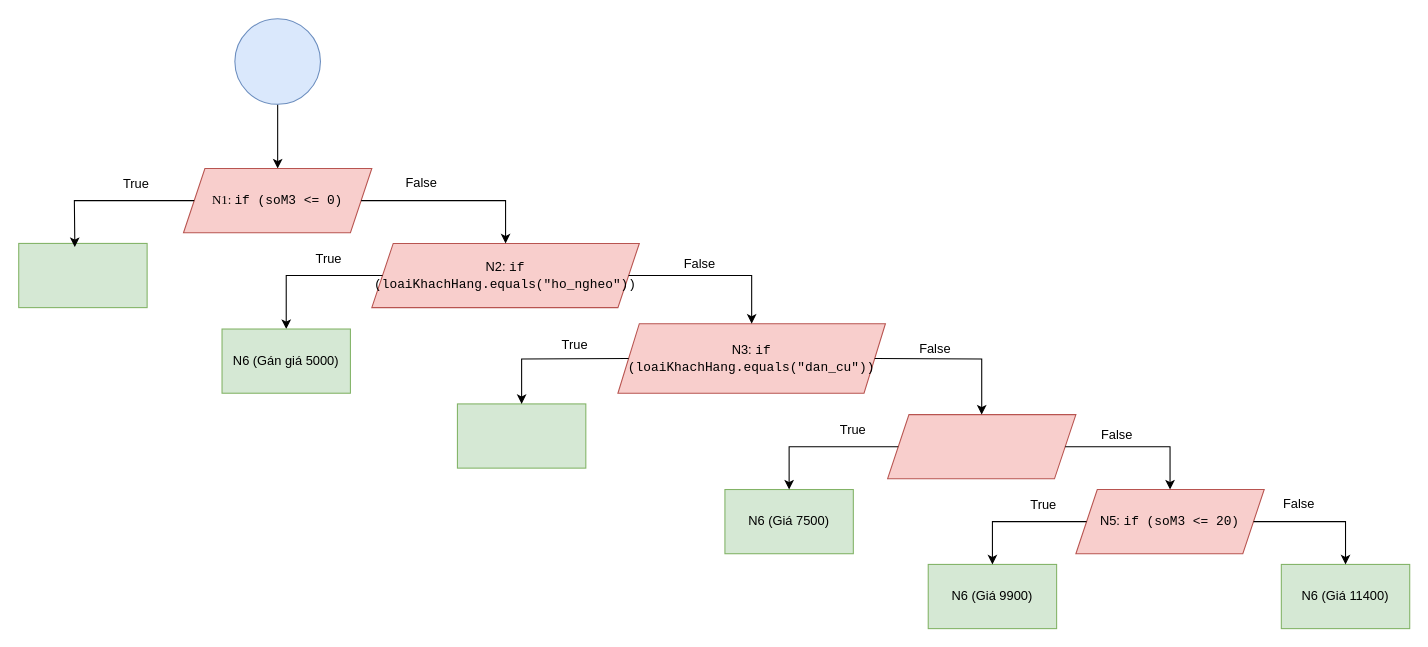
The diagram is 1428 pixels wide and 647 high, and some of its shapes have lost their labels. Each missing label, with the centre of its shape:
Exit (0): the point at 82,275
N4: if (soM3 <= 10): the point at 981,446
N6 (Kinh doanh, giá 22000): the point at 521,435
Start: the point at 277,61
